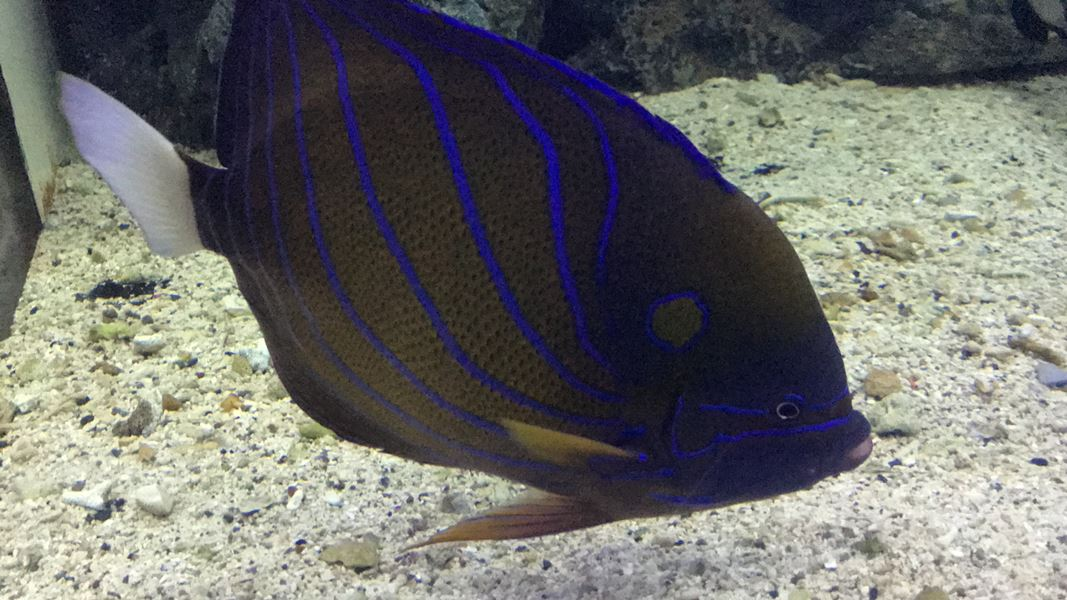Blue ring angelfish: (55, 1, 896, 571)
